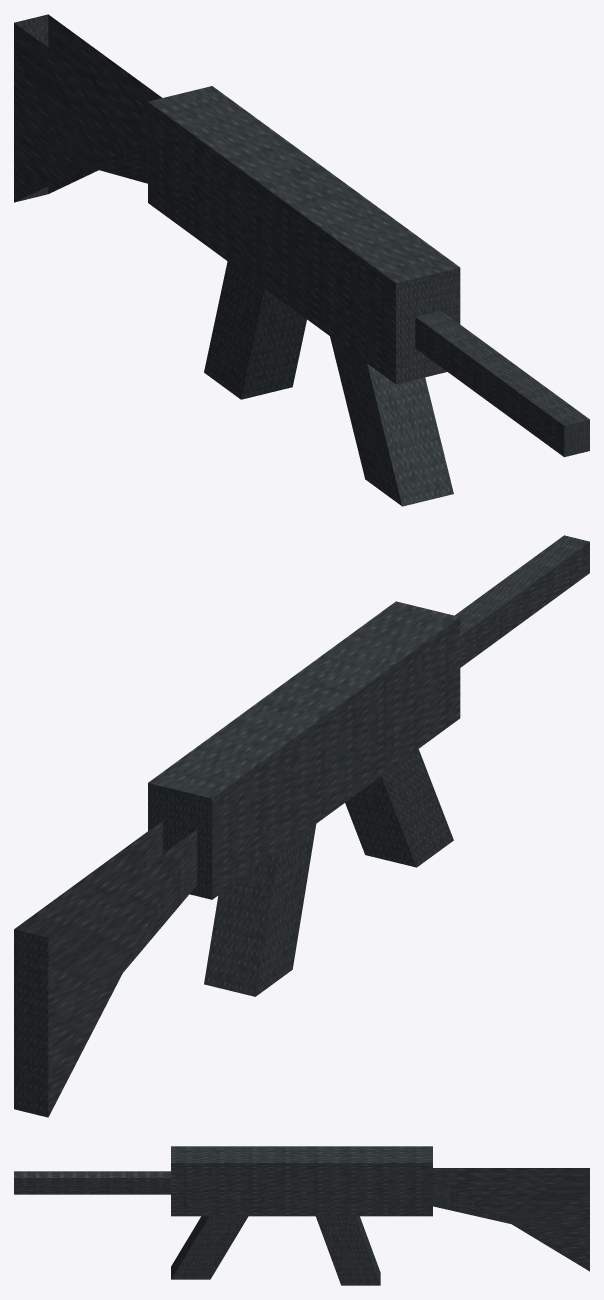
File: automag_lvl2_alt.obj
3 views of the same model, one above another, from view 1: azimuth 30°, elevation 25°; view 2: azimuth 150°, elevation 25°; view 3: azimuth 270°, elevation 25° (orthographic). The views are drawn at different scales.
Bounding box in the file's own units: 0.3 × 1.05 × 4.4.
Materials: 3 (3 with a texture image).
